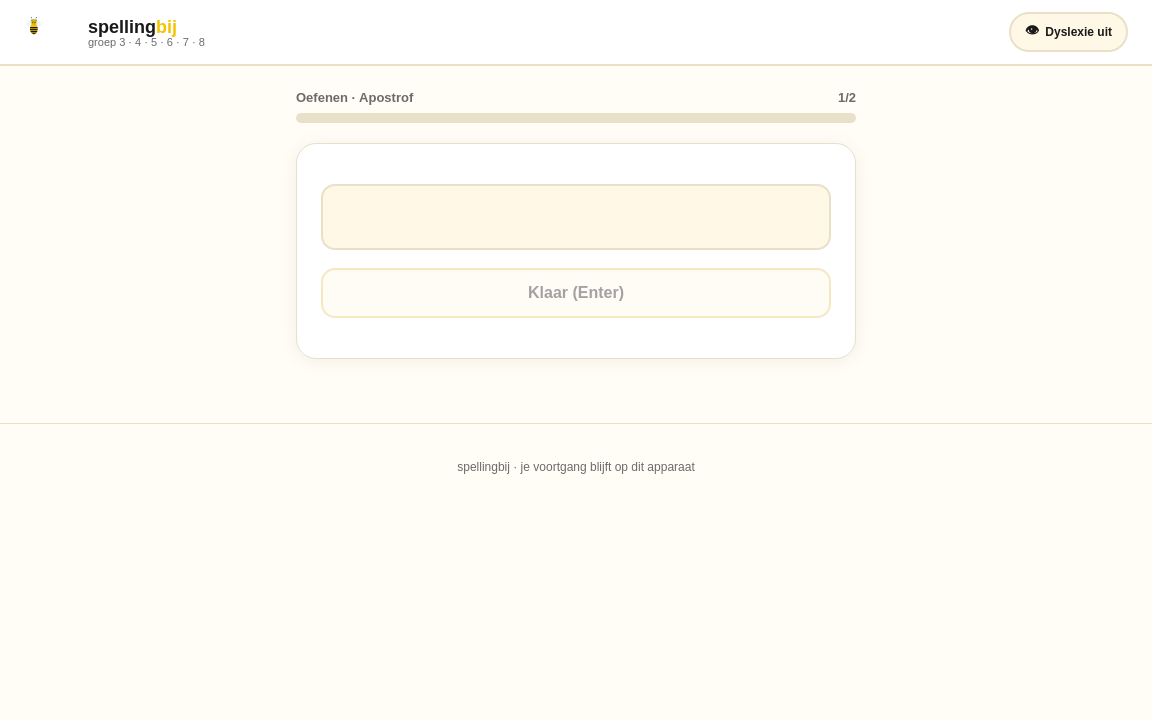
op Enter drukken na een fout antwoord gaat door naar het volgende woord, zonder muis
This screenshot has width=1152, height=720.
In the field: x=576, y=217 [321, 184, 831, 250], type "autos"
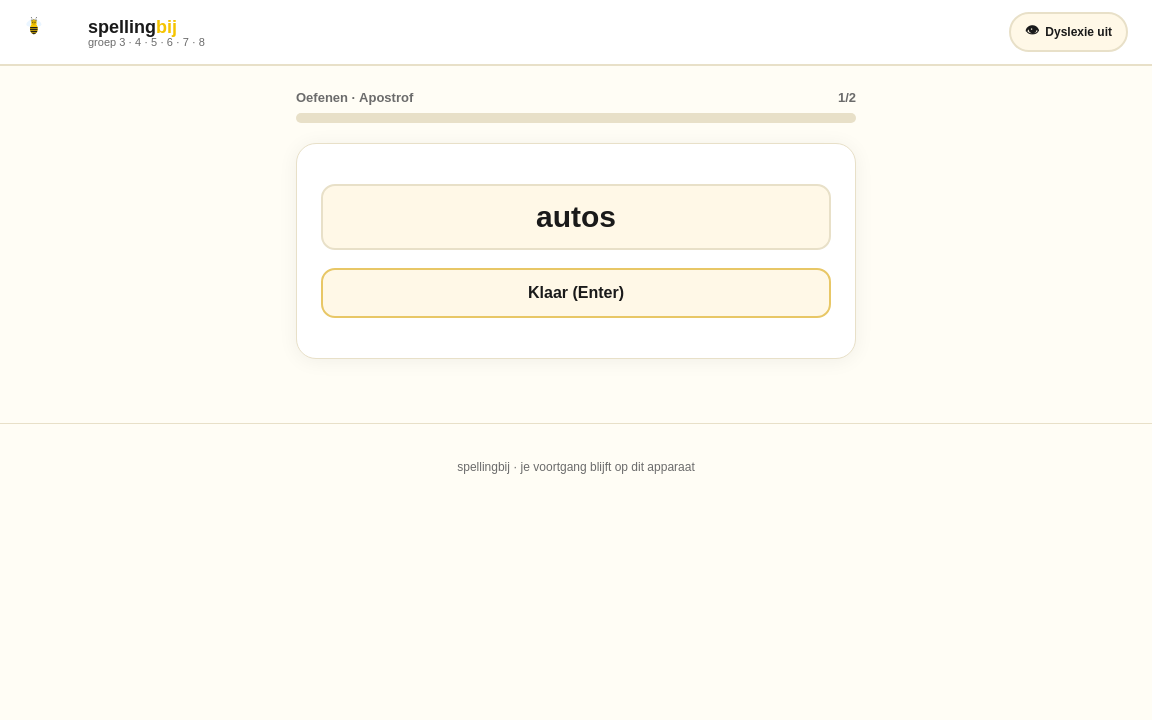
Click the button "Klaar (Enter)": x=576, y=293 [321, 268, 831, 318]
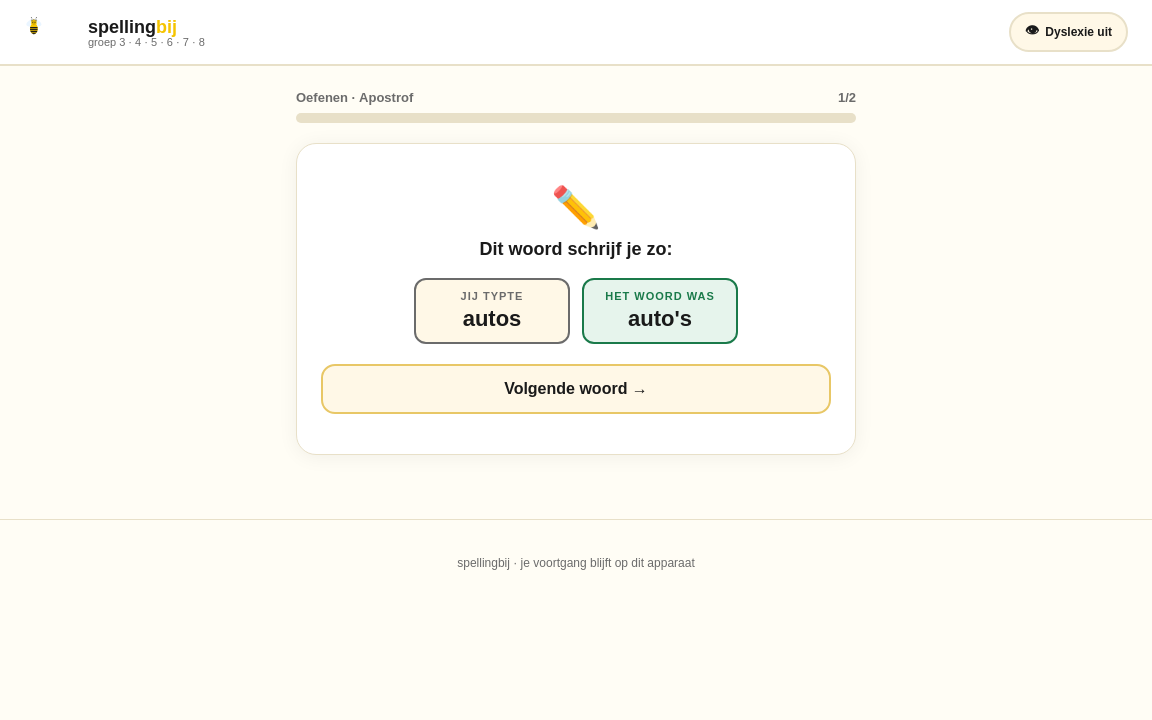
Check: the text "Jij typte" is shown, box [461, 290, 523, 302]
Press Enter
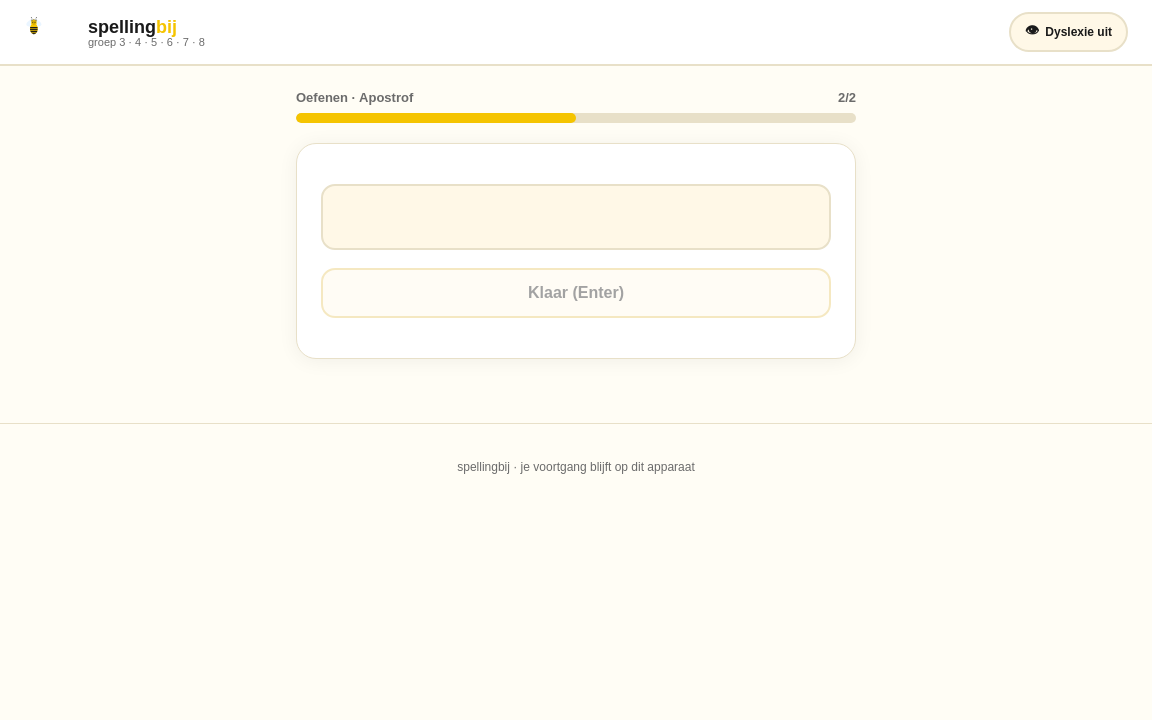
Check: the field is shown, box [321, 184, 831, 250]
